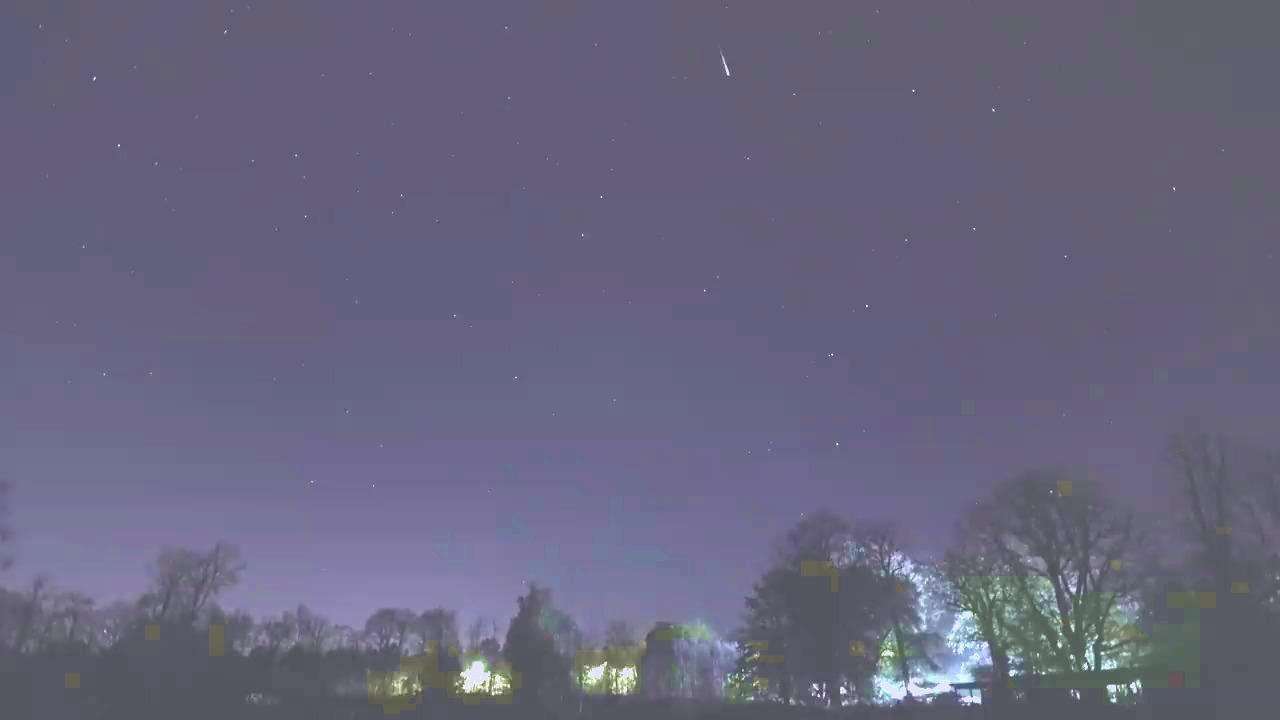meteorite: (675, 47, 770, 80)
